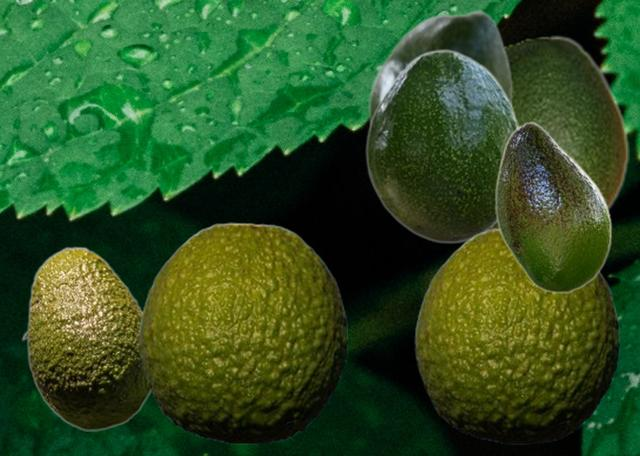avocado: (138, 222, 346, 443), (414, 227, 618, 443), (365, 49, 520, 243), (495, 35, 628, 227), (21, 246, 150, 430), (495, 121, 611, 292), (367, 9, 512, 128)
